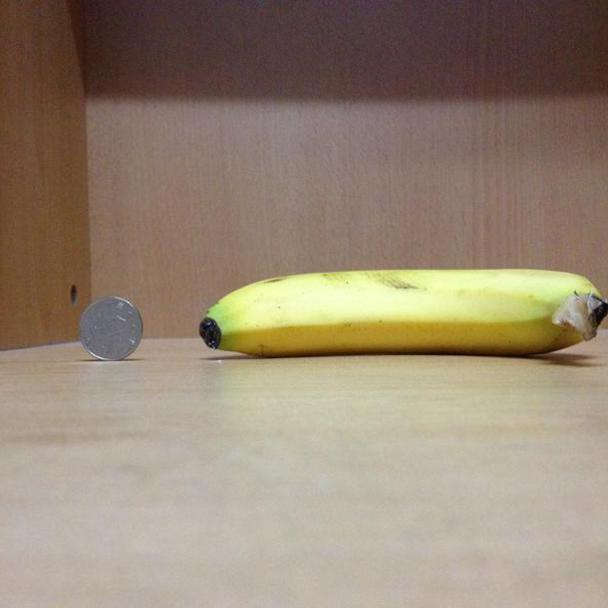banana: (189, 258, 608, 372)
